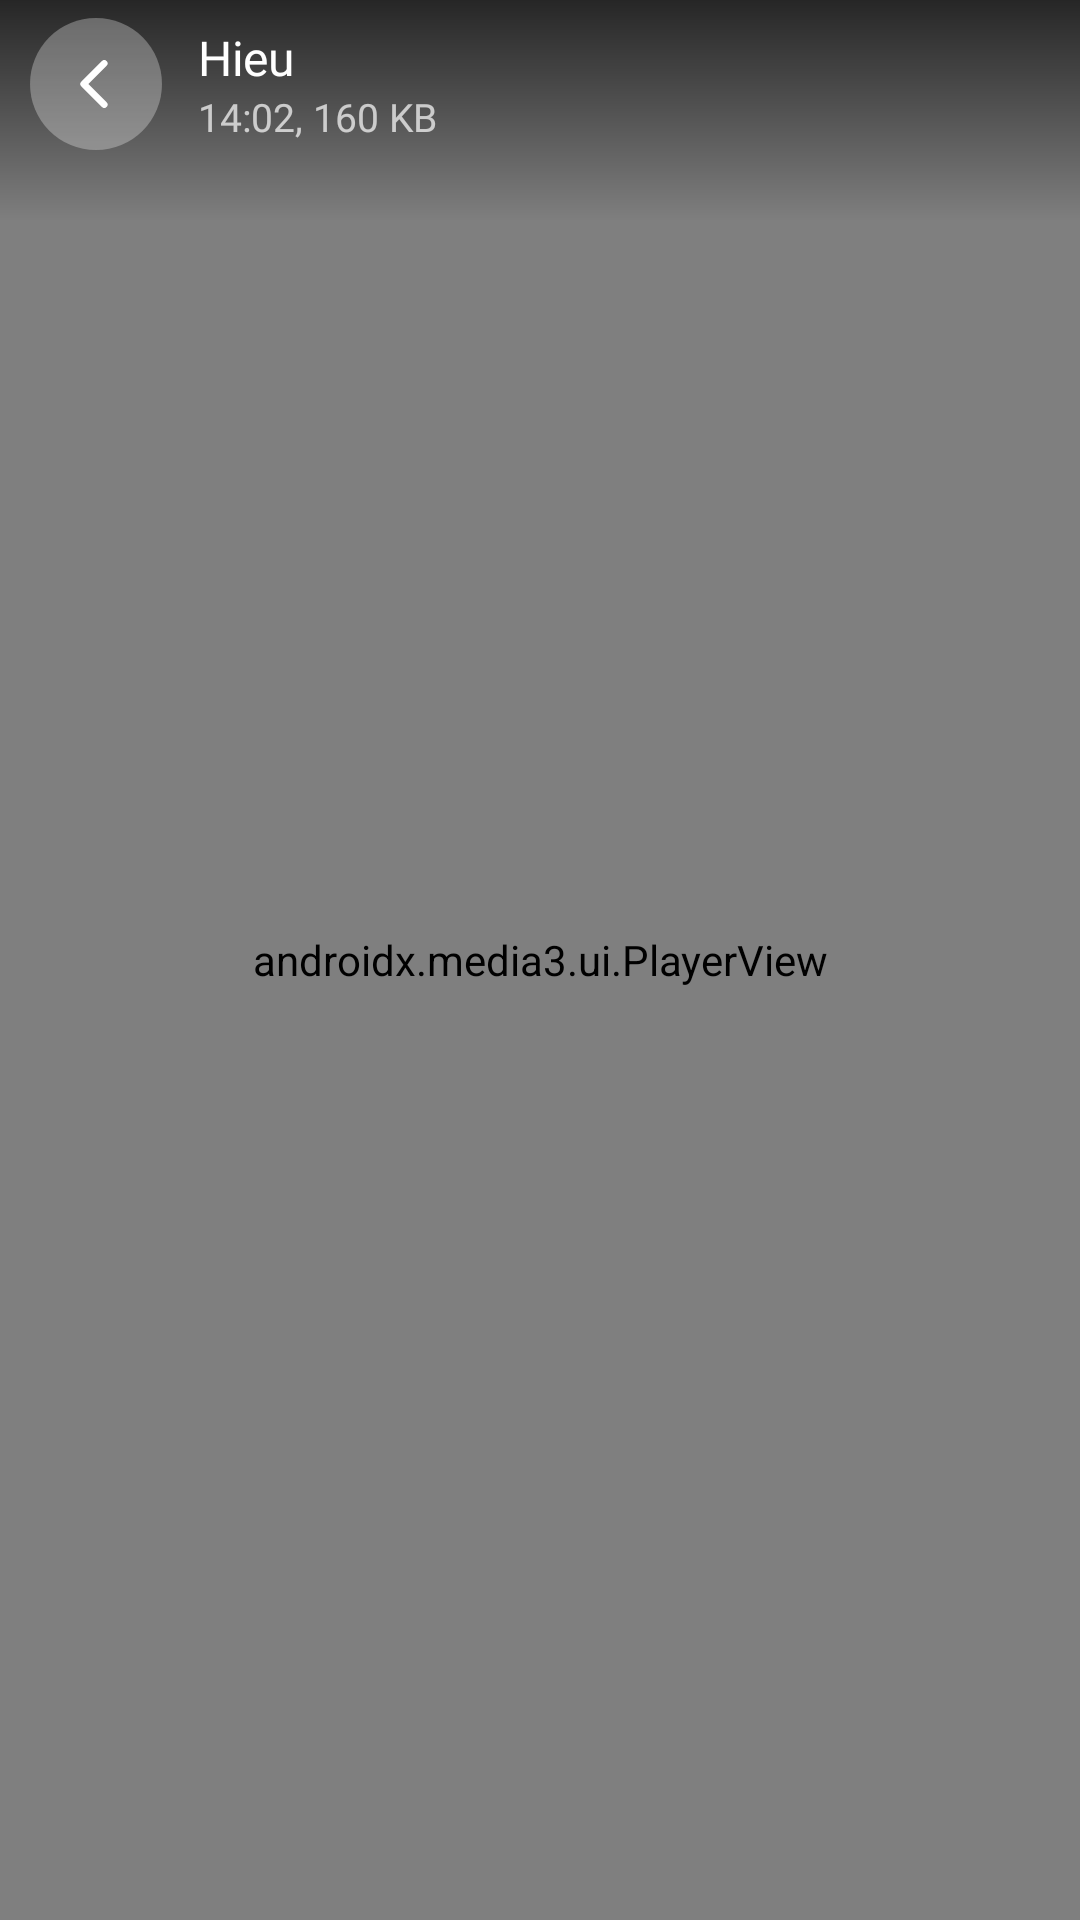

Screen size 1080*1920. Icon name, then its center in pixels as (x,y):
Quay lại: (96,84)
